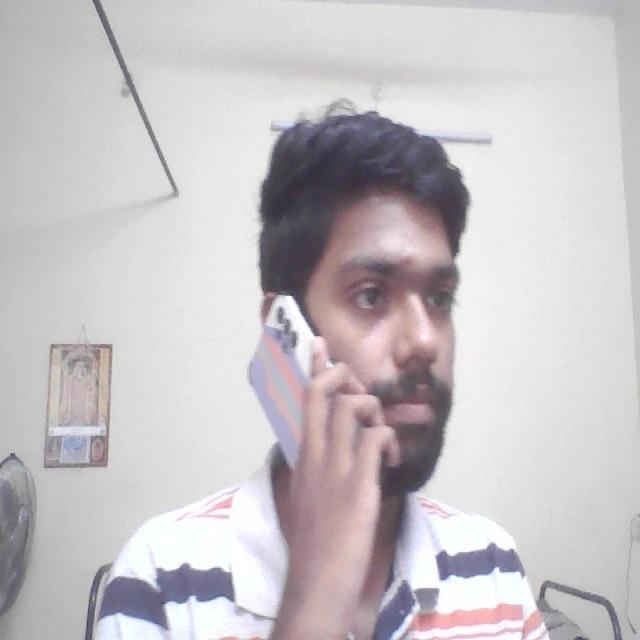Mobile: (240, 289, 337, 468)
